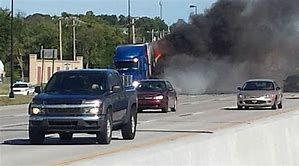smoke: (154, 1, 298, 77)
